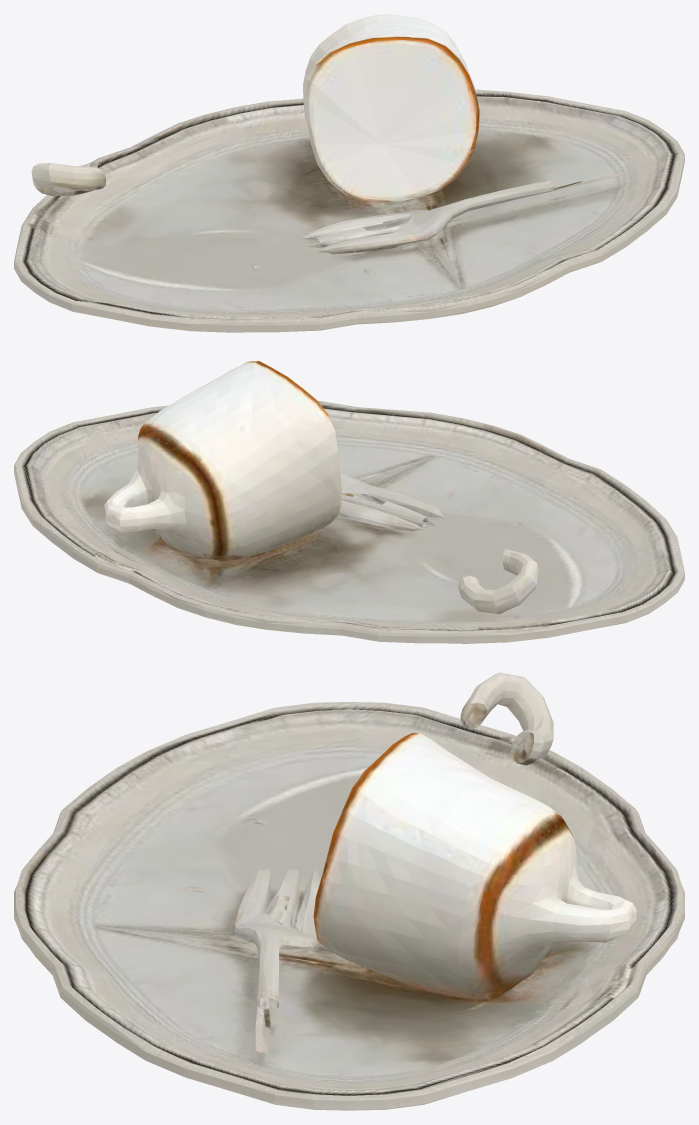
File: ship_service.glb
The picture shows the model from 3 angles, top to bottom: view 1: azimuth 30°, elevation 25°; view 2: azimuth 150°, elevation 25°; view 3: azimuth 270°, elevation 25°; orthographic projection. The views are drawn at different scales.
Visible parts, largest first — view 1: mesh_node; view 2: mesh_node; view 3: mesh_node.
Boxes of the visible parts, box(x1,y1,x2,y2) form: mesh_node: box(14, 14, 684, 332); mesh_node: box(14, 361, 684, 643); mesh_node: box(14, 672, 684, 1110).
Size of the model in its own units: 1.91 by 0.4775 by 1.36.
Materials: 1 (1 with a texture image).
